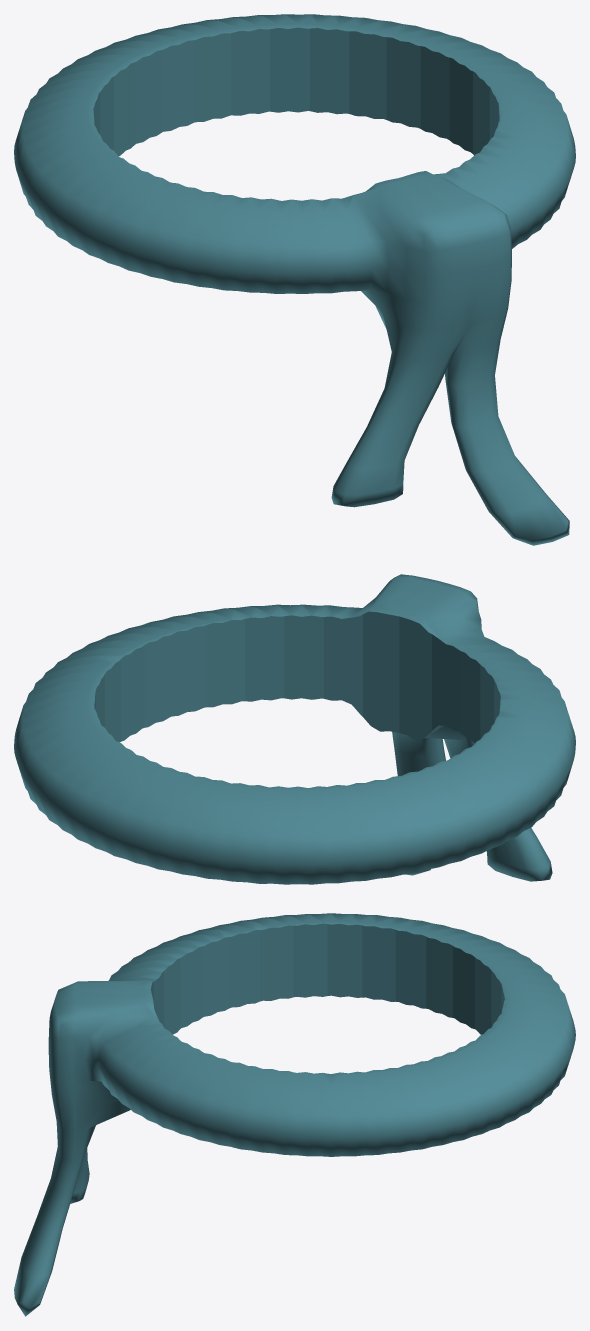
File: Jaber_Pbearscarf.glb
The picture shows the model from 3 angles, top to bottom: view 1: azimuth 30°, elevation 25°; view 2: azimuth 150°, elevation 25°; view 3: azimuth 270°, elevation 25°; orthographic projection. The views are drawn at different scales.
Visible parts, largest first — view 1: Scarf; view 2: Scarf; view 3: Scarf.
Boxes of the visible parts, <box> form: Scarf: <box>14,14,575,545</box>; Scarf: <box>14,574,575,884</box>; Scarf: <box>14,913,575,1316</box>.
Bounding box in the file's own units: 1.02 × 0.6597 × 1.17.
